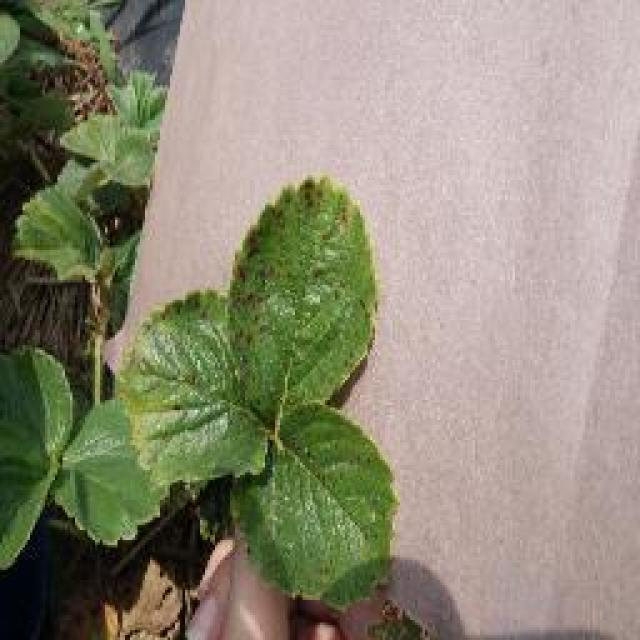Strawberry leaf scorch: (238, 250, 350, 372)
